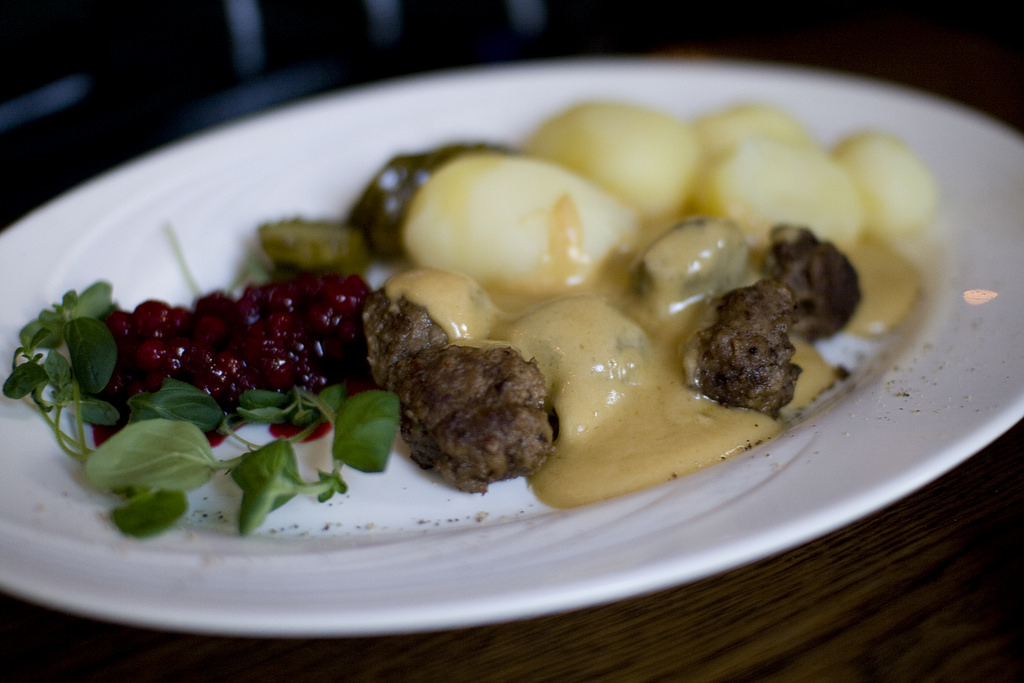boiled potatoes: (407, 162, 627, 292), (707, 126, 916, 244), (540, 121, 707, 216)
meatballs: (409, 350, 562, 491), (367, 263, 474, 381), (699, 291, 801, 396), (764, 238, 866, 338)
